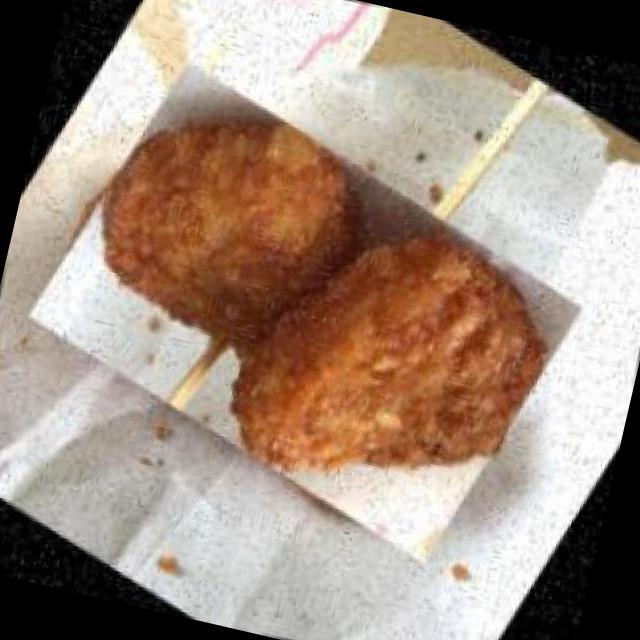triangle_hash_brown: (0, 20, 632, 602)
